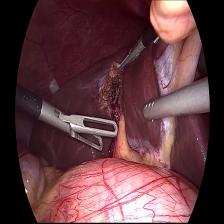Grasper: (42, 102, 118, 155), (112, 40, 145, 74)
Irrigator: (140, 94, 168, 125)
Specimen Bag: (44, 76, 64, 94)
